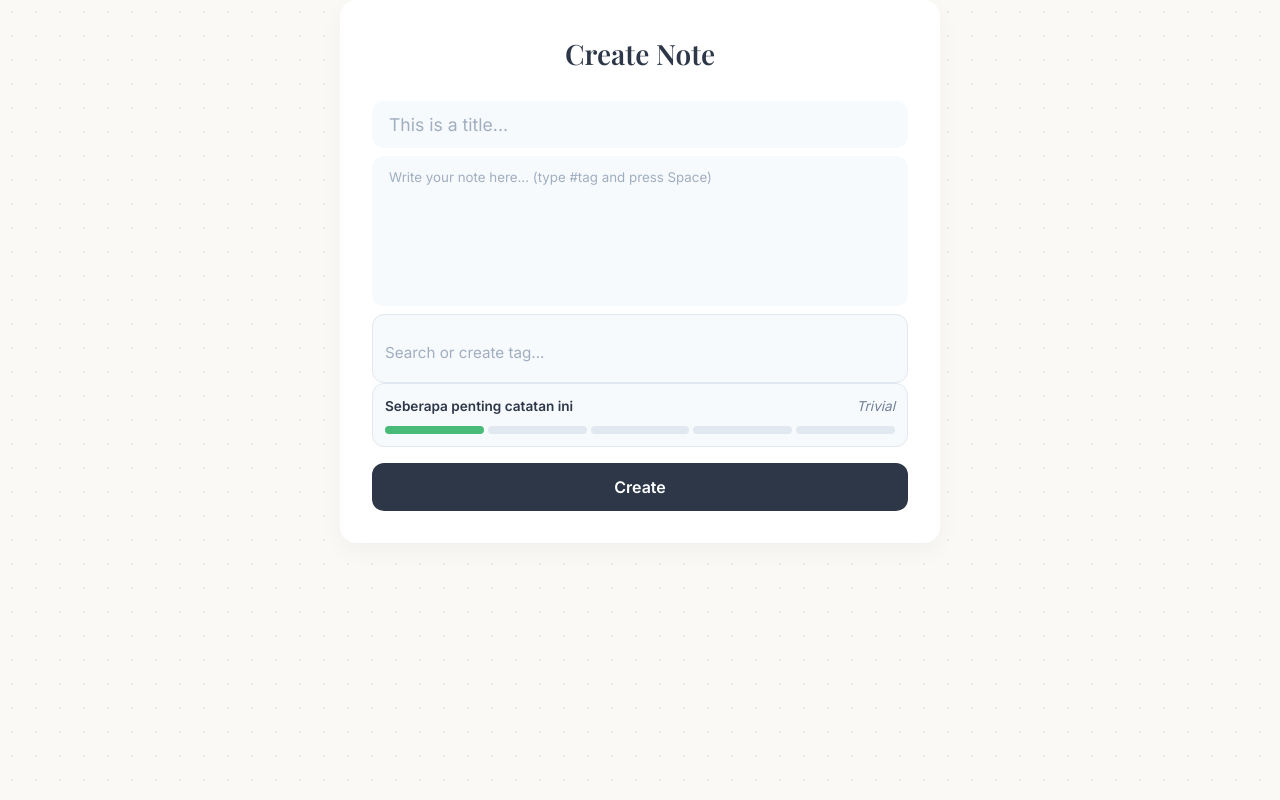
Test: NoteInput Component › shows error message if body is less than 10 characters
In the field with placeholder "This is a title...": (640, 124) [372,101,908,148], type "Valid Title"
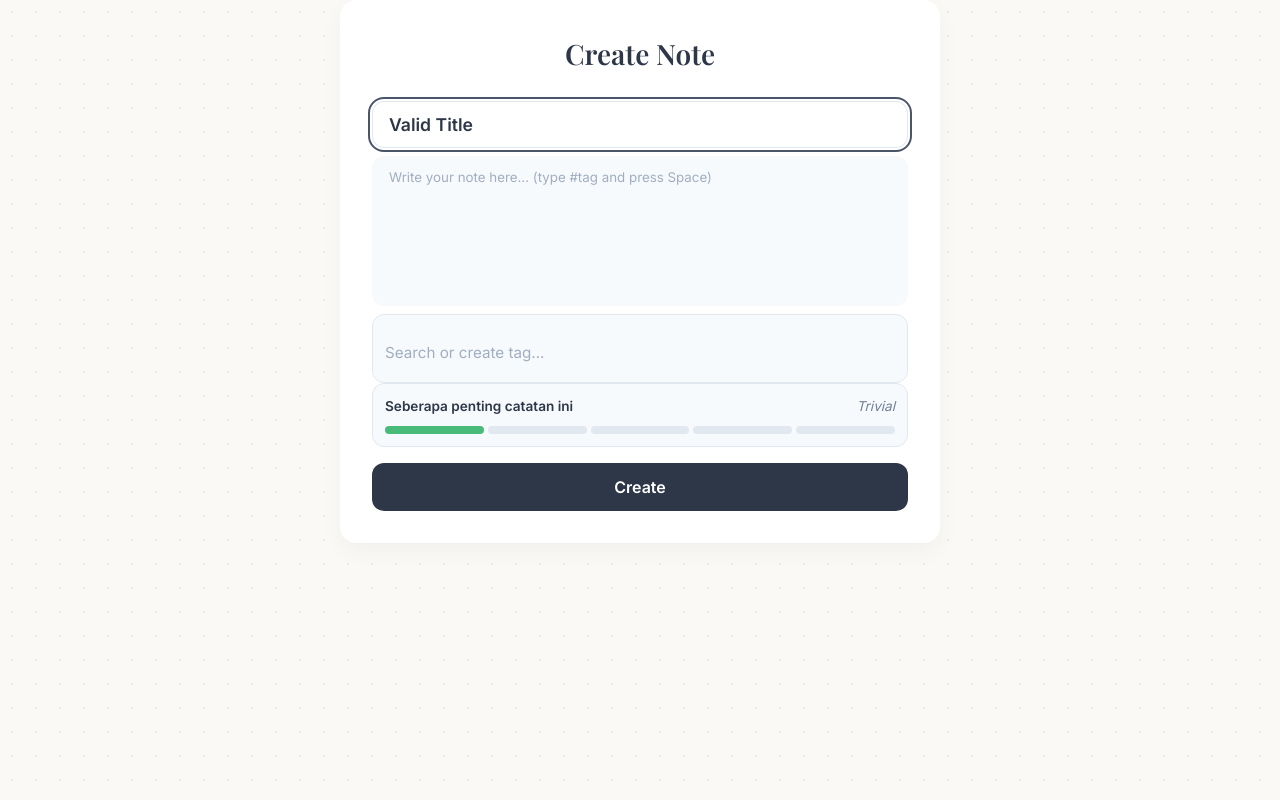
In the text box with placeholder "Write your note here... (type #tag and press Space)": (640, 231) [372,156,908,306], type "Short"
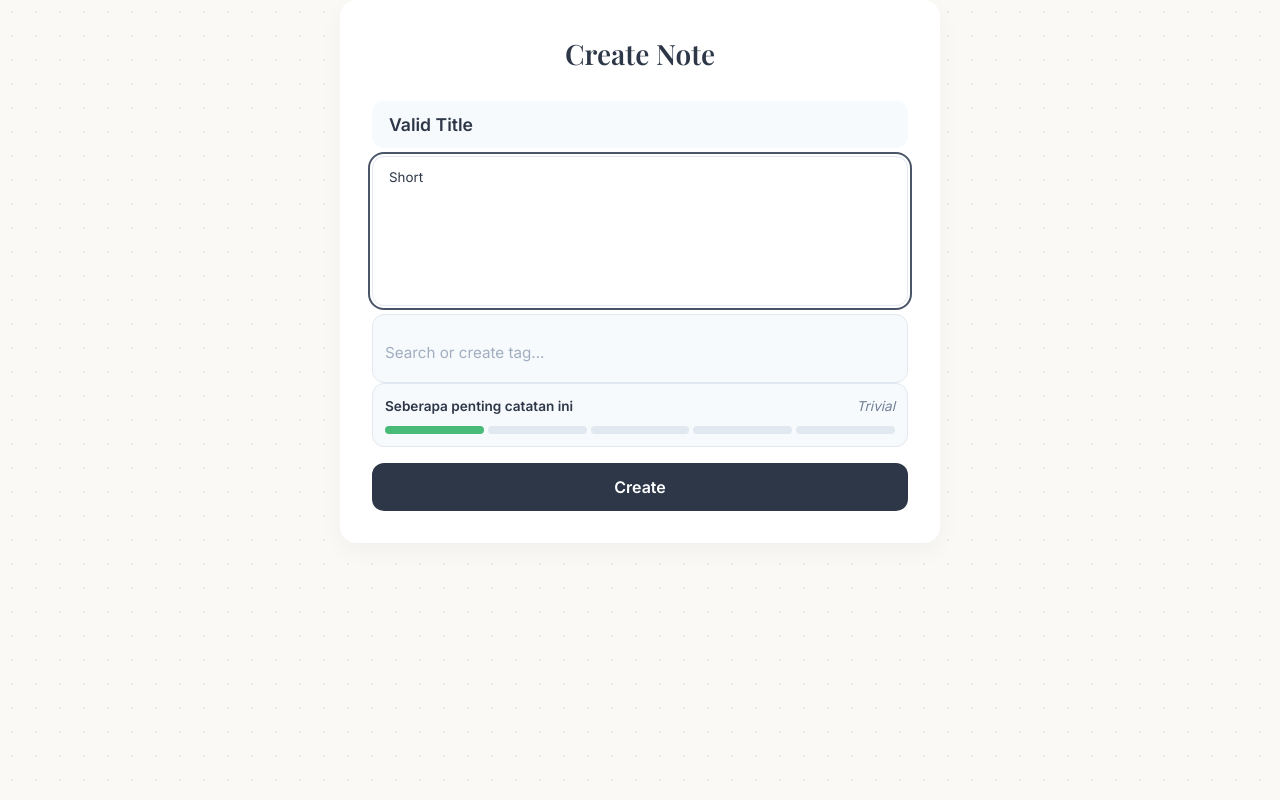
Click the button "Create": (640, 486) [372,462,908,510]
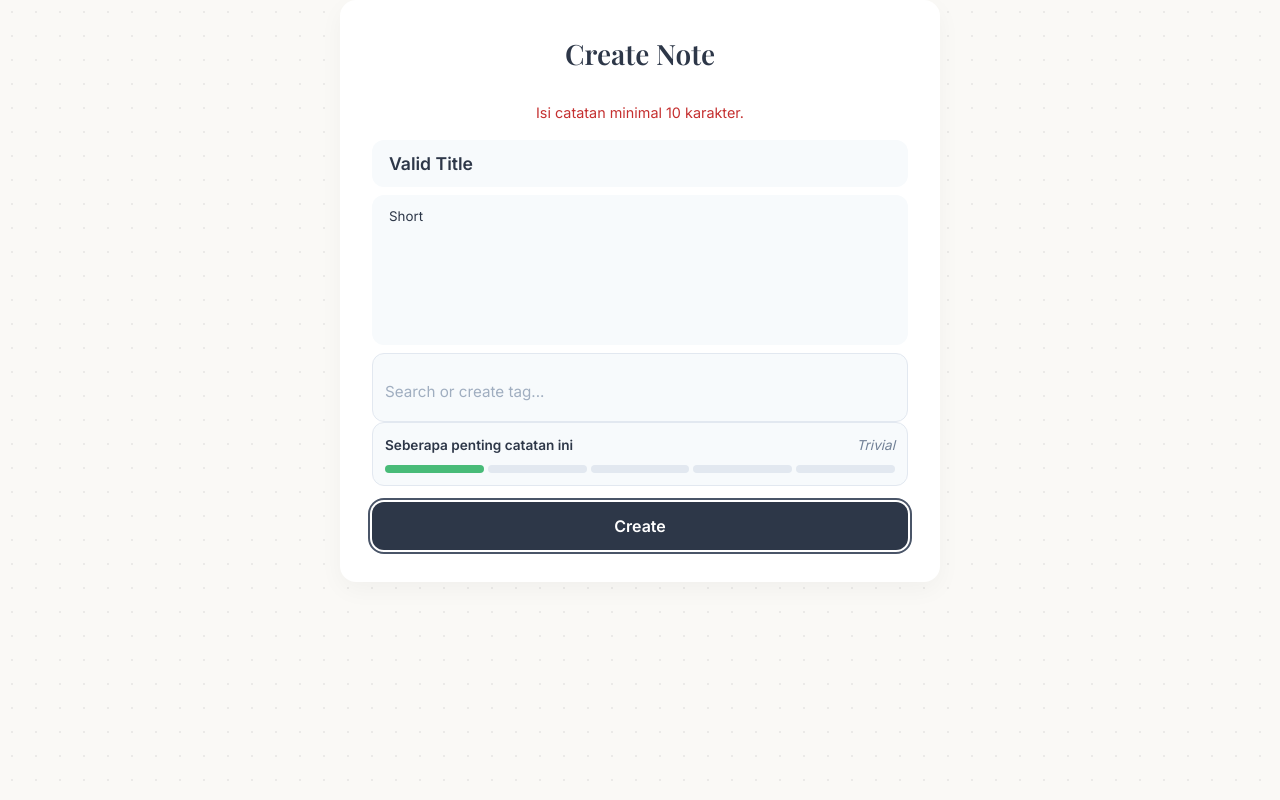
expect the text "Isi catatan minimal 10 karakter." is shown: met, box [536,104,744,121]
